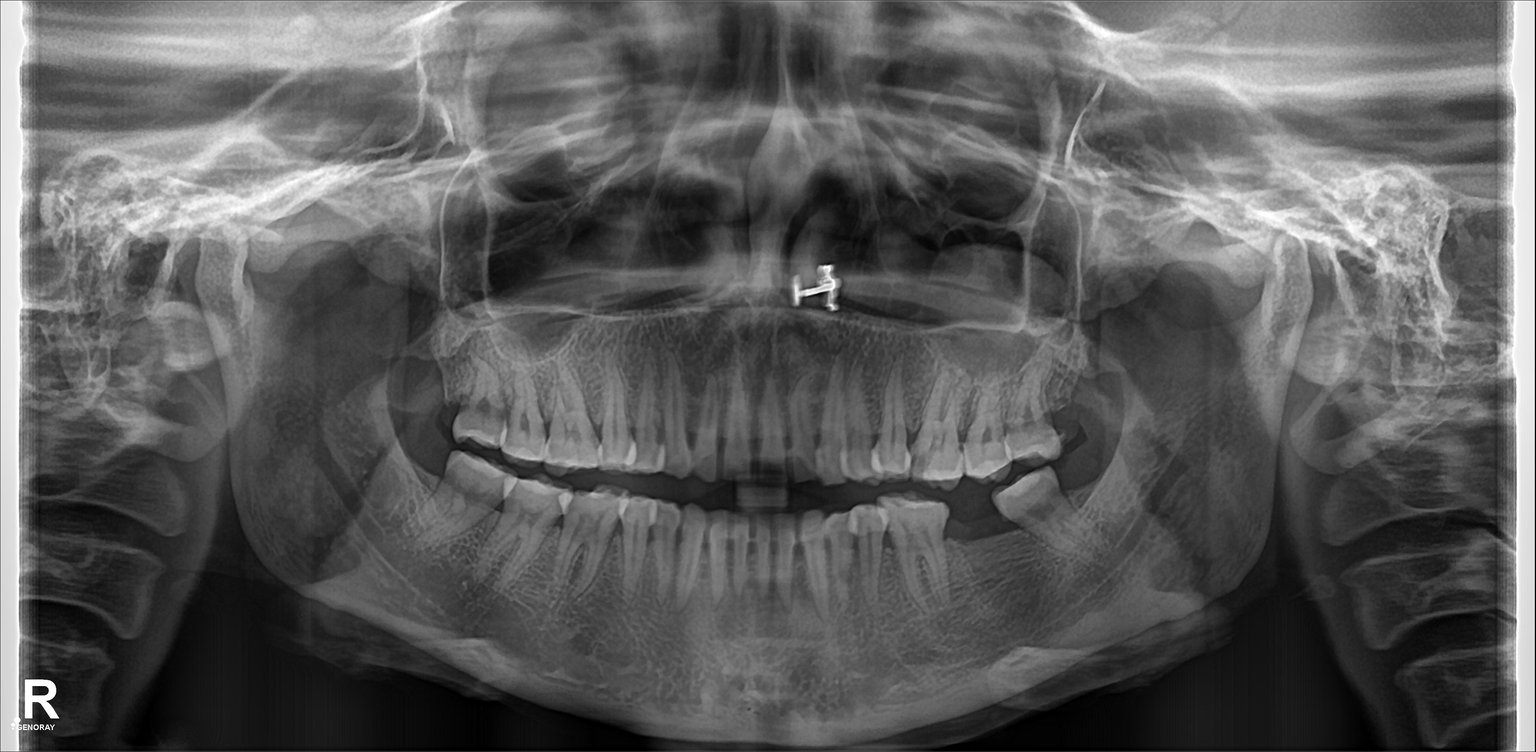Missing Tooth: (407, 348, 466, 441), (1048, 344, 1098, 420), (382, 436, 441, 499), (1058, 443, 1111, 509), (961, 499, 1000, 572)
